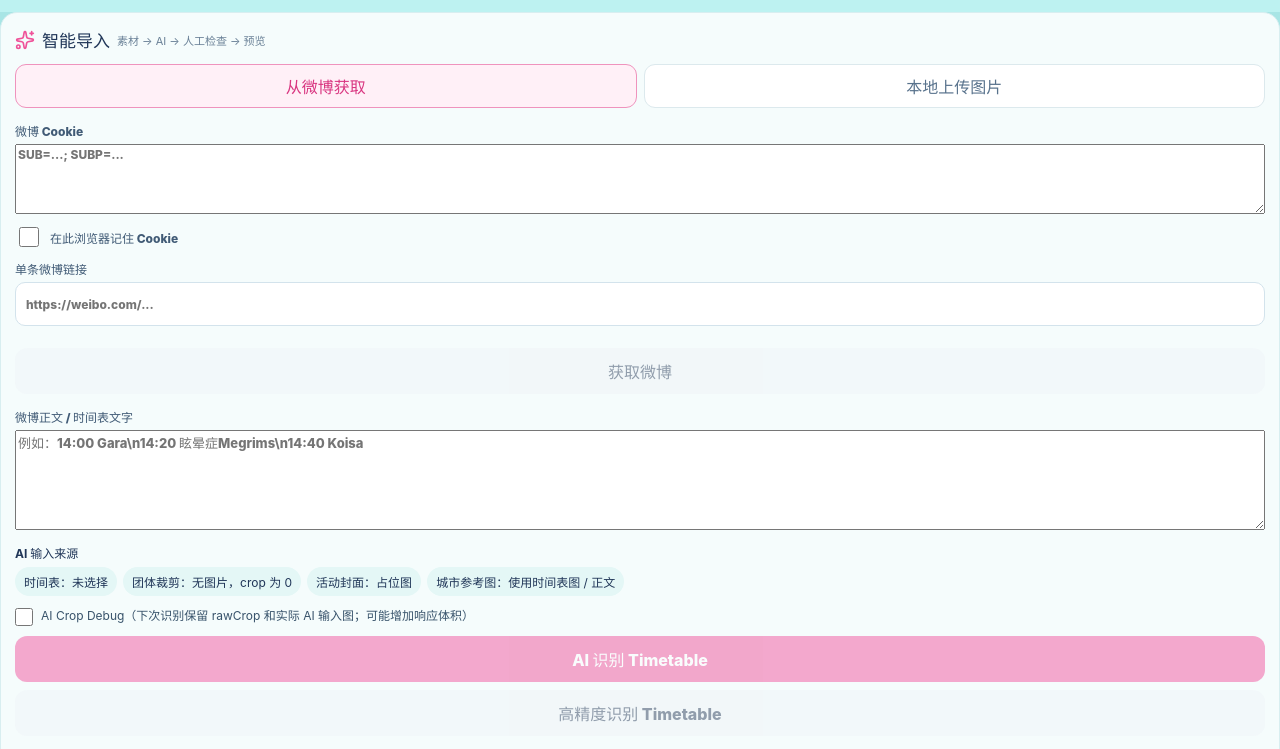
Test: remembers a Weibo Cookie only when selected and can clear it
Step 1. Type "SUB=private==" into the text box labelled "微博 Cookie" → (640, 179), box [15,144,1265,214]
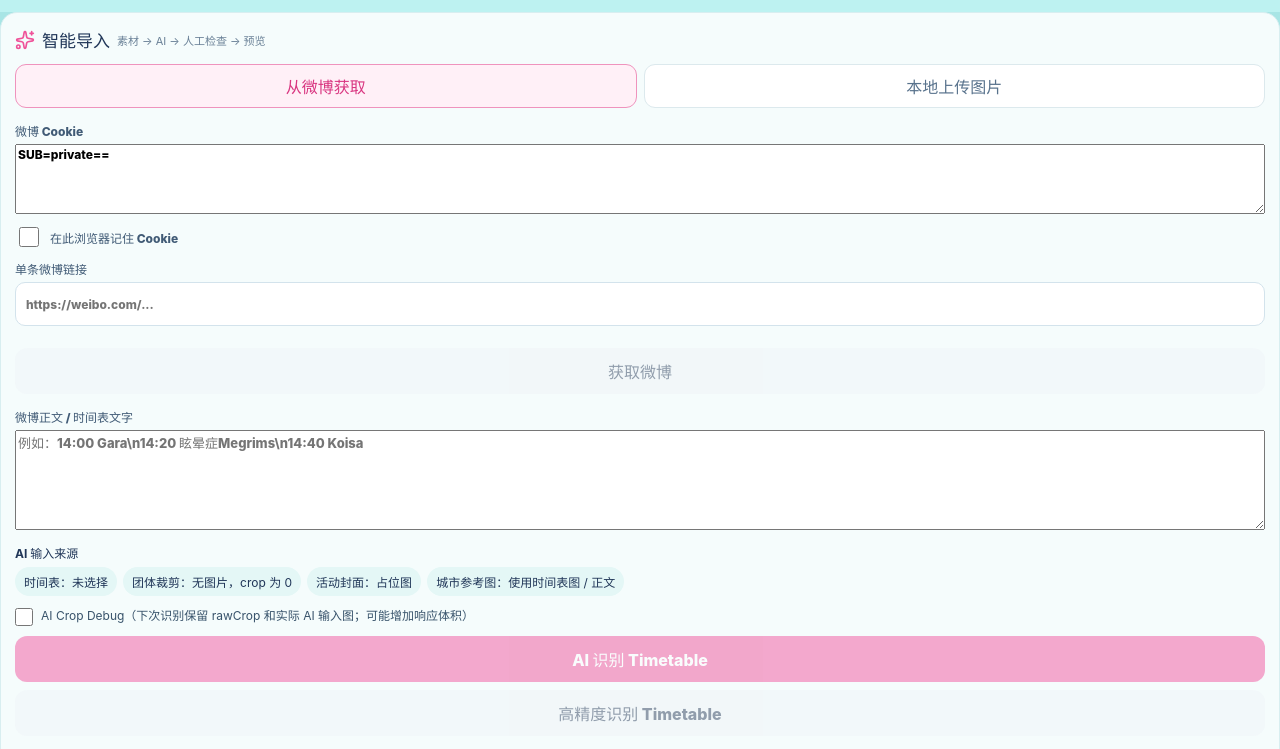
Step 2. Click the checkbox labelled "在此浏览器记住 Cookie" → click(29, 237), box [19,227,39,247]
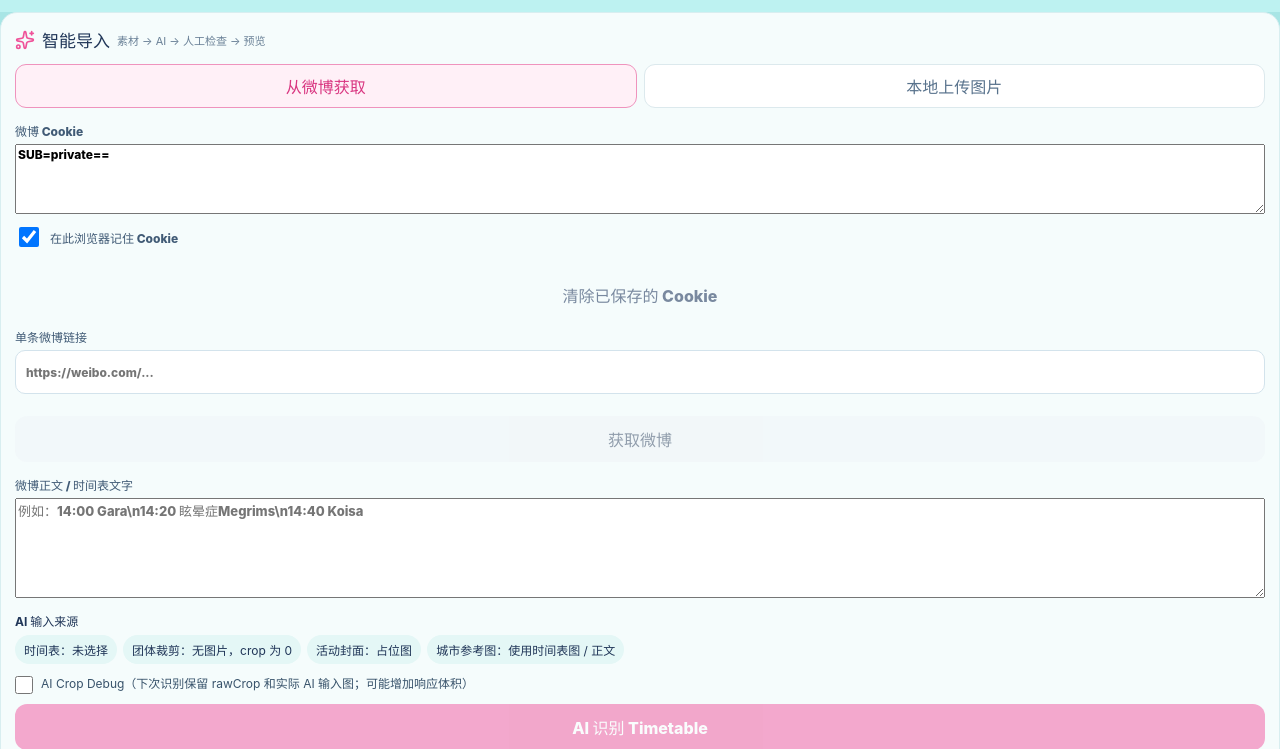
Step 3. Click the button "清除已保存的 Cookie" → click(640, 295), box [15,272,1265,318]
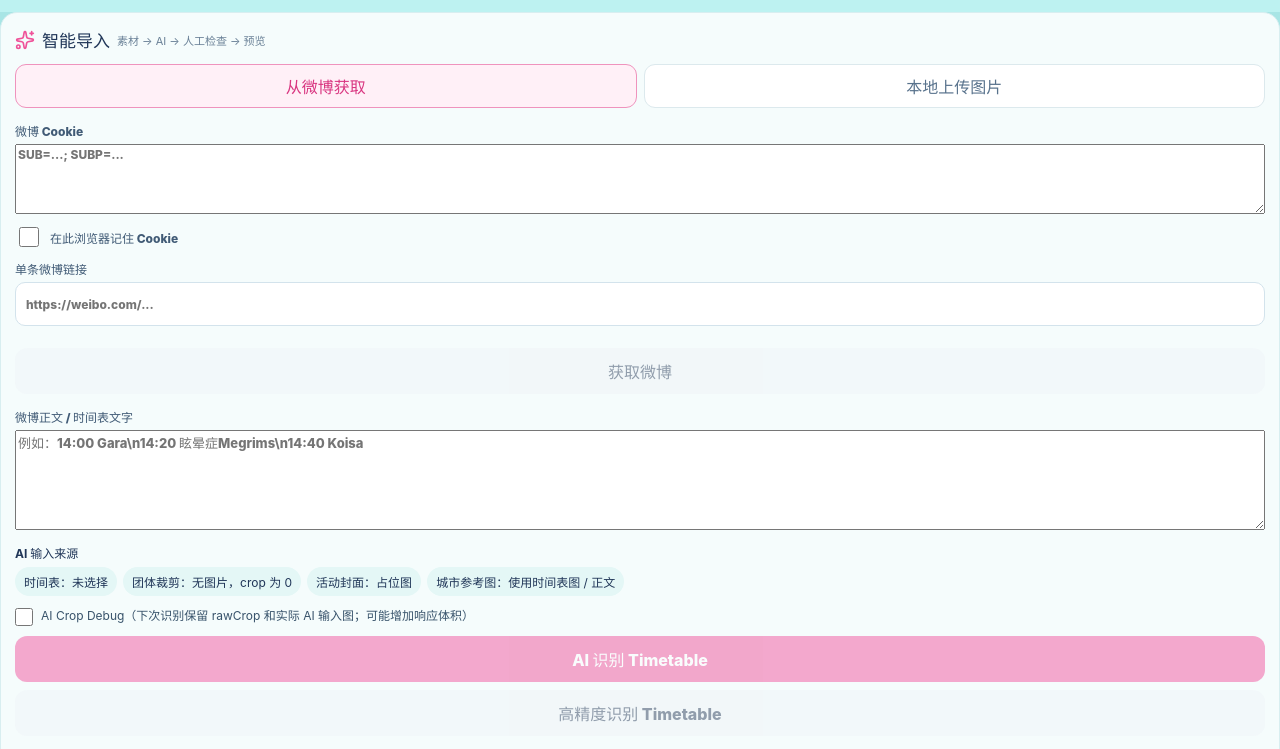
Expected: the text box labelled "微博 Cookie" is empty, [15,144,1265,214]
